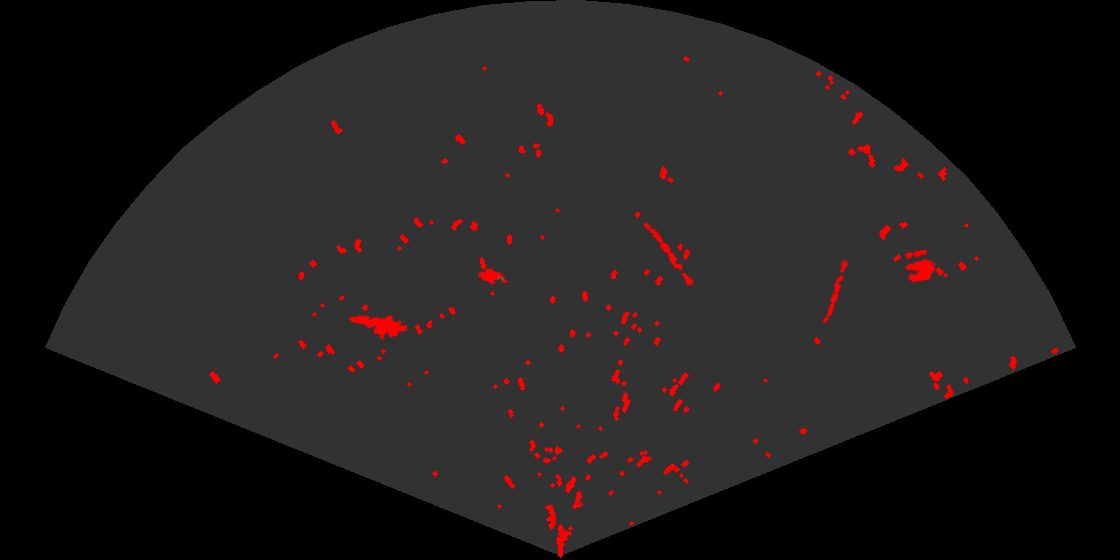AUV: (477, 266, 509, 286)
ball: (903, 248, 937, 284)
chain: (642, 221, 699, 291), (821, 258, 850, 326)
frogman: (347, 314, 407, 342)
